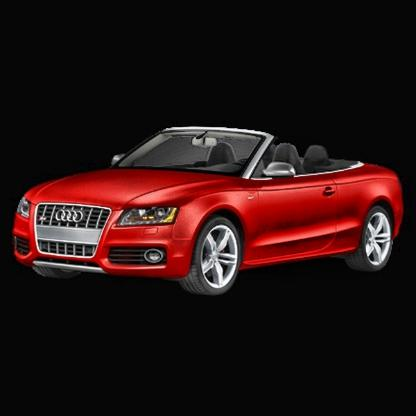Audi S5 Convertible 2012: (15, 128, 405, 295)
